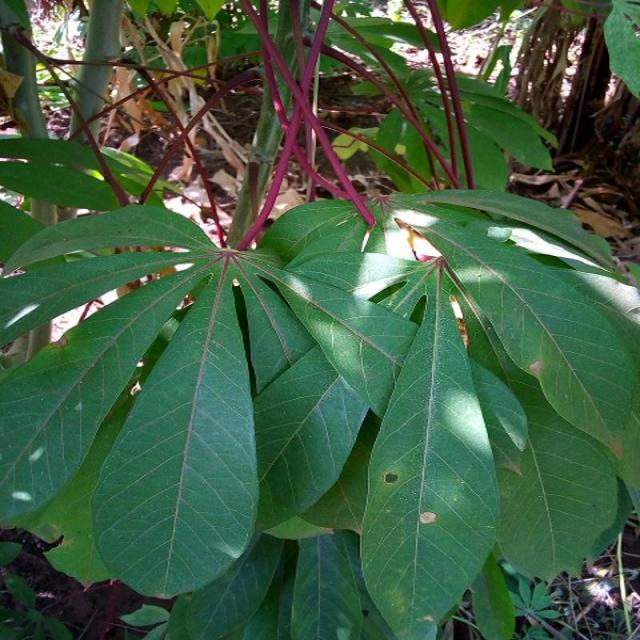cassava leaf: (1, 184, 638, 636), (90, 260, 260, 598), (358, 255, 501, 638)
